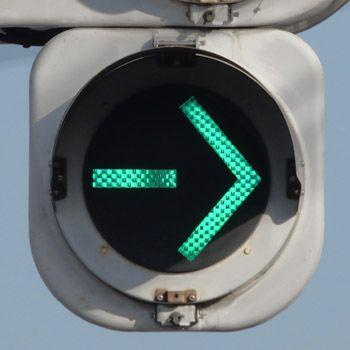green: (24, 31, 337, 336)
